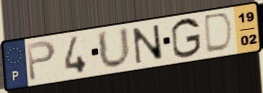4: (63, 35, 89, 76)
D: (204, 11, 236, 56)
G: (169, 17, 203, 60)
N: (131, 23, 166, 66)
P: (25, 39, 58, 83)
U: (95, 25, 133, 71)
